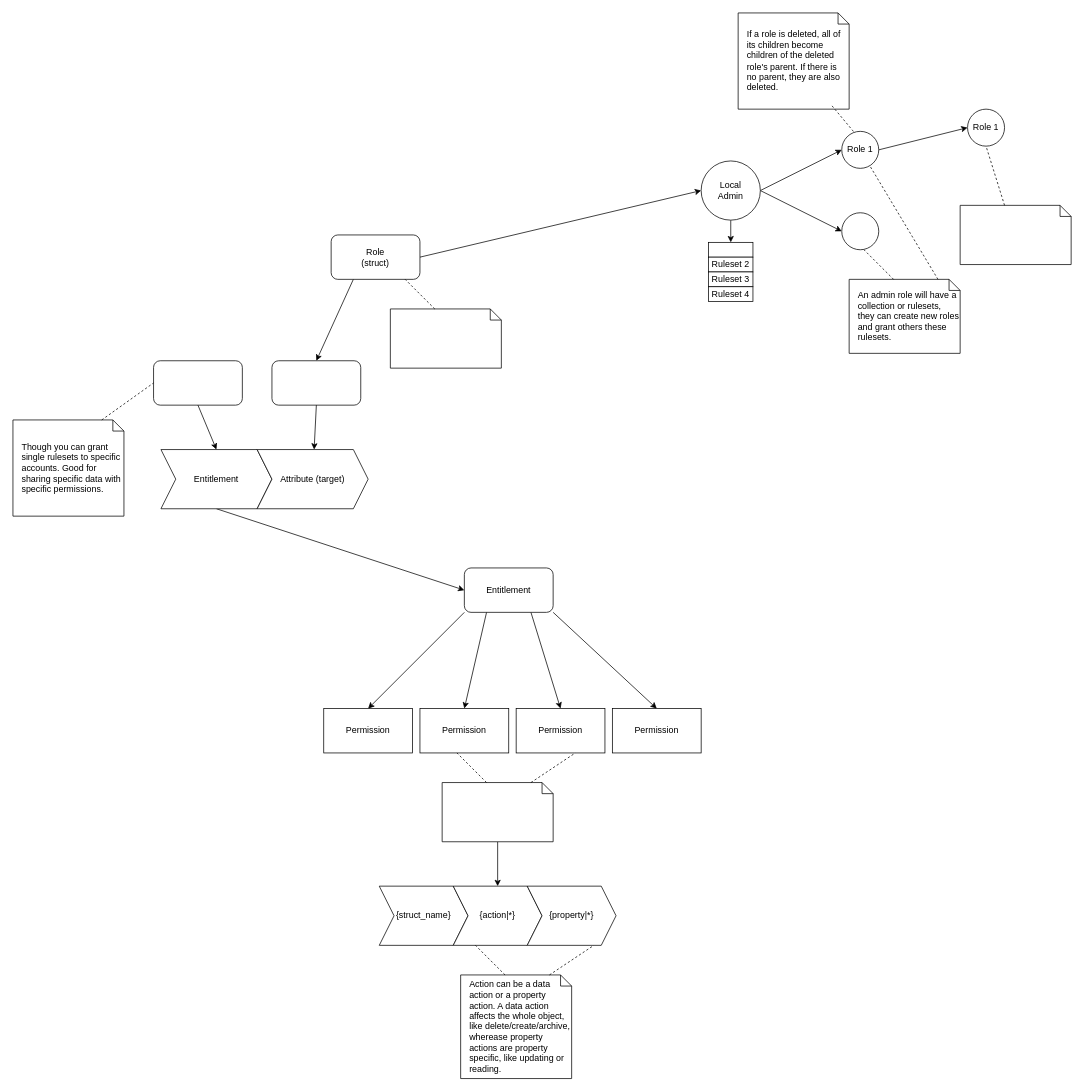
Some shapes in this 1084 by 1092 pixel diagram are drawn without their labels. Each missing label, with the centre of its shape:
A permission is a single potential action on a struct.: the point at 497,812
A role is a collection of RoleRulesets: the point at 445,338
AccountRuleset (struct): the point at 197,382
Each role can grant their children only the rulsets they are given.: the point at 1015,235
Role 2: the point at 860,231
RoleRuleset (struct): the point at 316,382
Ruleset 1: the point at 730,249
